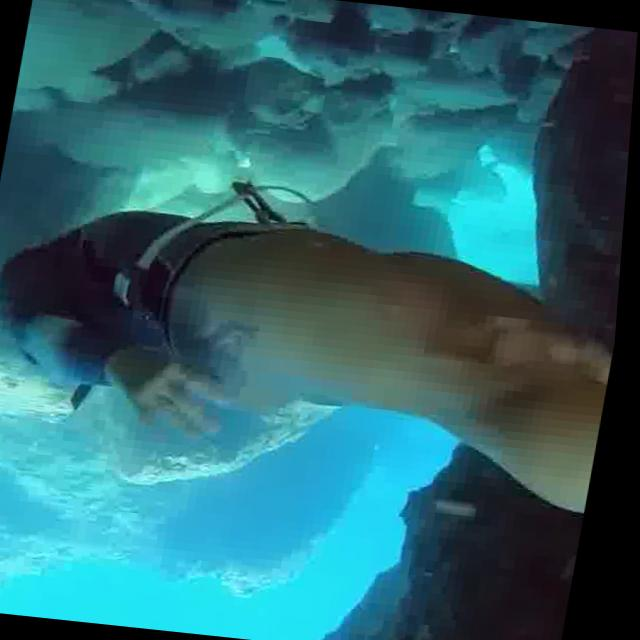human: (0, 159, 631, 606)
